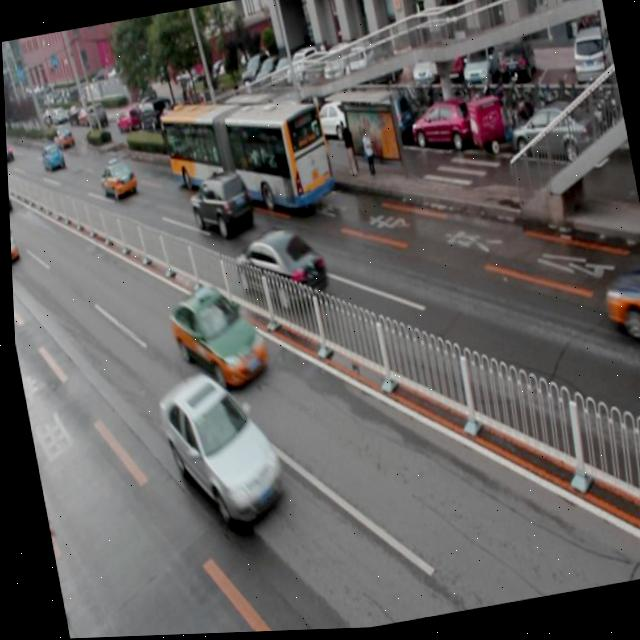car: (151, 368, 283, 534), (163, 280, 270, 398), (229, 227, 327, 318), (183, 167, 253, 243), (597, 267, 640, 358), (94, 155, 137, 203), (8, 215, 16, 266)
van: (155, 81, 337, 235)
